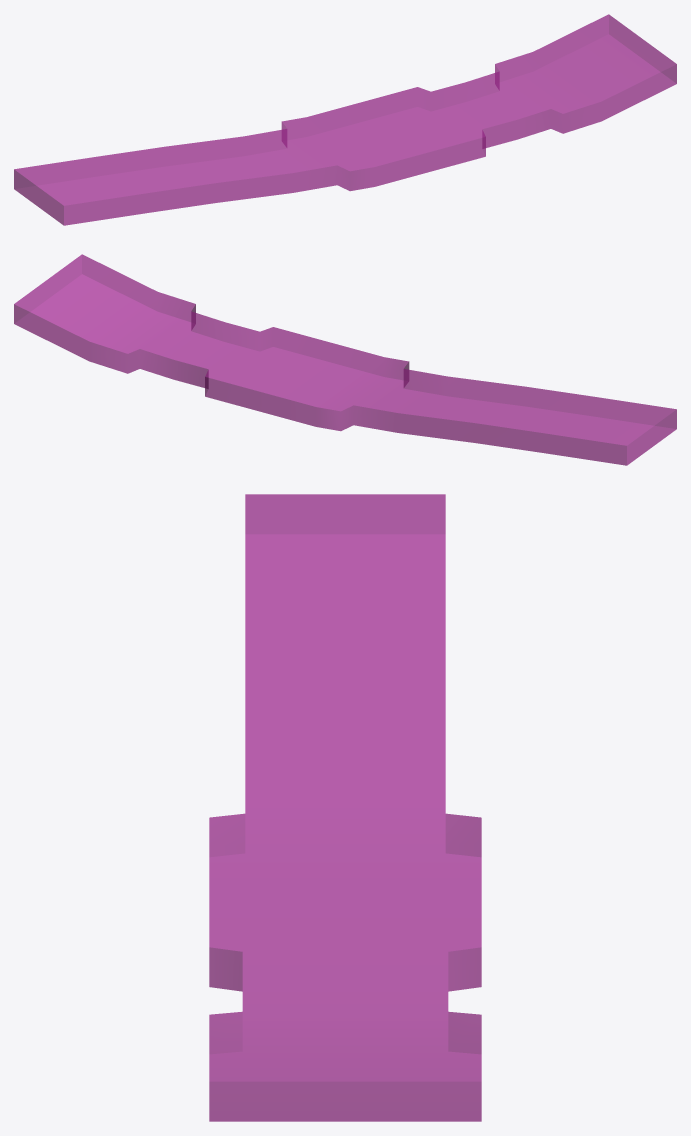
The model's file is SM_Bld_Walkway_07_Collision.fbx.
The picture shows the model from 3 angles, top to bottom: view 1: azimuth 30°, elevation 25°; view 2: azimuth 150°, elevation 25°; view 3: azimuth 270°, elevation 25°; orthographic projection. The views are drawn at different scales.
Visible parts, largest first — view 1: SM_Bld_Walkway_07_Collision; view 2: SM_Bld_Walkway_07_Collision; view 3: SM_Bld_Walkway_07_Collision.
Boxes of the visible parts, left/top/right/bottom form: SM_Bld_Walkway_07_Collision: left=14, top=14, right=676, bottom=225; SM_Bld_Walkway_07_Collision: left=14, top=254, right=676, bottom=465; SM_Bld_Walkway_07_Collision: left=209, top=494, right=481, bottom=1121.
Bounding box in the file's own units: 1034 × 80.34 × 202.
